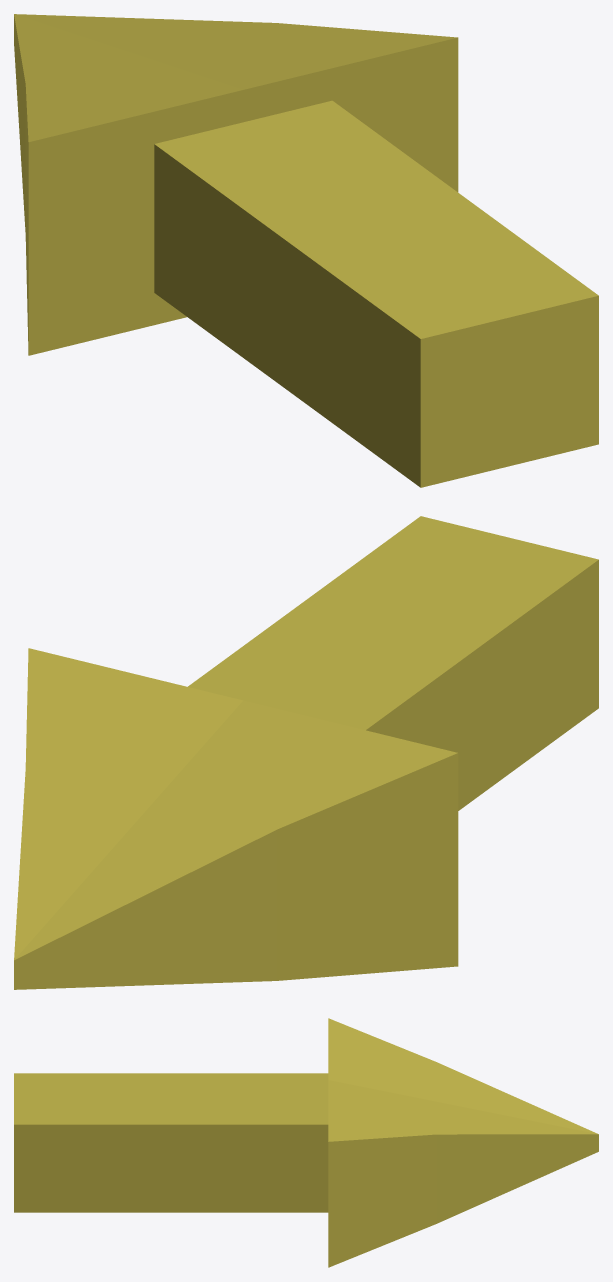
File: arrow.fbx
3 views of the same model, one above another, from view 1: azimuth 30°, elevation 25°; view 2: azimuth 150°, elevation 25°; view 3: azimuth 270°, elevation 25° (orthographic). The views are drawn at different scales.
Parts seen in each view (by area): view 1: Cube; view 2: Cube; view 3: Cube.
Boxes of the visible parts, x1,y1,x2,y2 form: Cube: (14,14,598,487); Cube: (14,516,598,989); Cube: (14,1018,598,1267).
Size of the model in its own units: 216 by 103 by 432.
